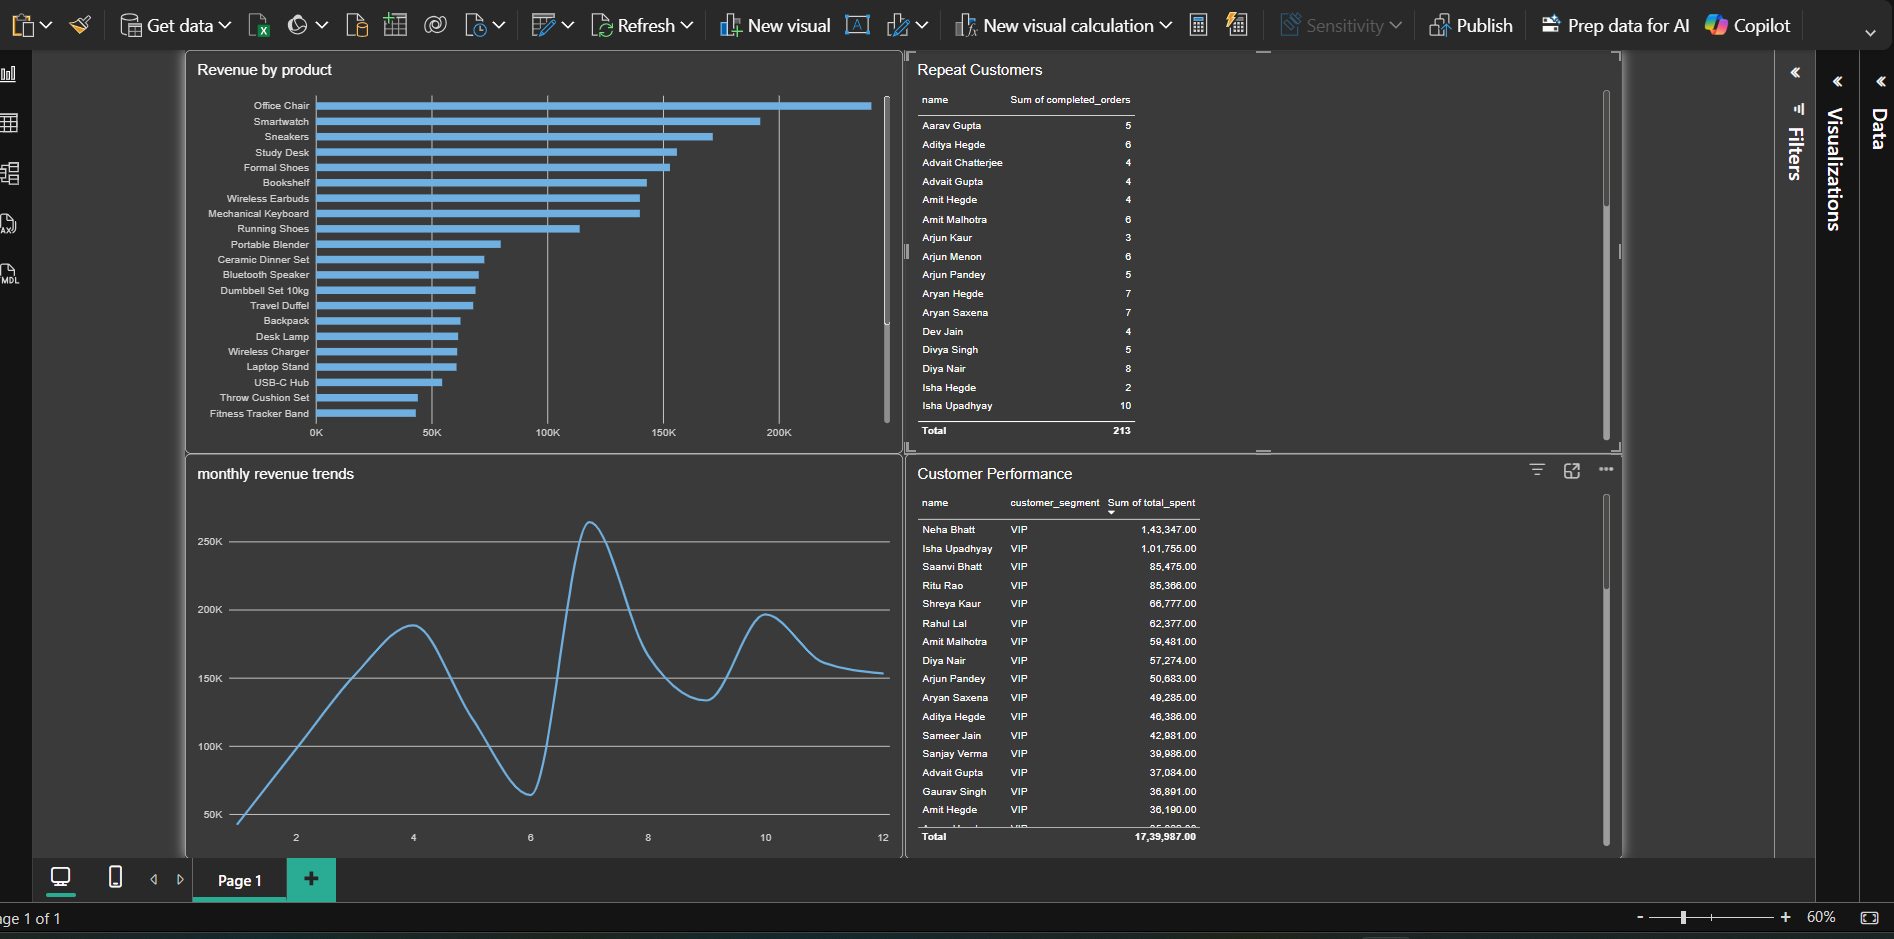

The page's visual inventory and layout, read from the dashboard file:
{"tool":"powerbi","page":{"name":"Page 1","canvas":[1920,1080],"ordinal":0},"visuals":[{"type":"clusteredBarChart","title":"Revenue by product","fields":{"Category":["sales_analytics vw_product_performance.product_name"],"Y":["Sum(sales_analytics vw_product_performance.revenue)"]},"box":[0,0,959.2,539.3],"z":1000},{"type":"lineChart","title":"monthly revenue trends","fields":{"Category":["sales_analytics vw_monthly_revenue.mo"],"Y":["Sum(sales_analytics vw_monthly_revenue.revenue)"]},"box":[0,539.3,959.2,541.3],"z":1001},{"type":"tableEx","title":" Customer Performance","fields":{"Values":["sales_analytics vw_customer_summary.name","sales_analytics vw_customer_summary.customer_segment","Sum(sales_analytics vw_customer_summary.total_spent)"]},"box":[961.2,539.3,959.2,541.3],"z":1003},{"type":"tableEx","title":"Repeat Customers","fields":{"Values":["sales_analytics vw_customer_summary.name","Sum(sales_analytics vw_customer_summary.completed_orders)"]},"box":[961,0,959,539],"z":1004}]}

Visuals, with their boxes on the page's 1920x1080 design canvas (x1, y1, x2, y2). These are canvas units, not pixel positions in the 1894x939 screenshot, which may show the page scaled, cropped or inside an application window:
"Revenue by product" clusteredBarChart: pyautogui.locateOnScreen(0, 0, 959, 539)
"monthly revenue trends" lineChart: pyautogui.locateOnScreen(0, 539, 959, 1081)
" Customer Performance" tableEx: pyautogui.locateOnScreen(961, 539, 1920, 1081)
"Repeat Customers" tableEx: pyautogui.locateOnScreen(961, 0, 1920, 539)
